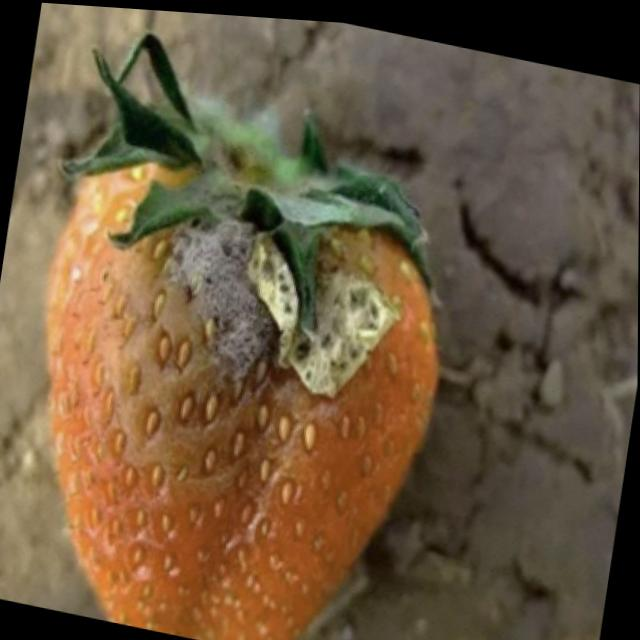Gray Mold: (85, 212, 411, 500)
